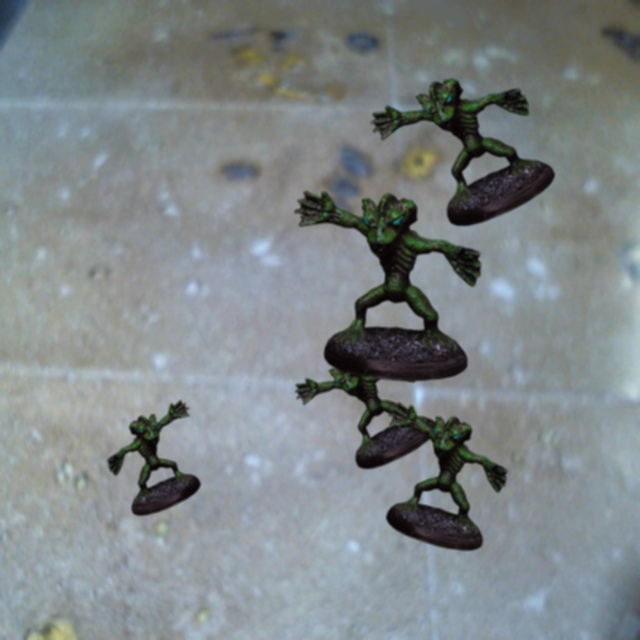pieza_juego: (294, 191, 480, 380), (371, 78, 554, 225), (386, 402, 507, 550), (295, 355, 437, 468), (107, 400, 200, 515)
